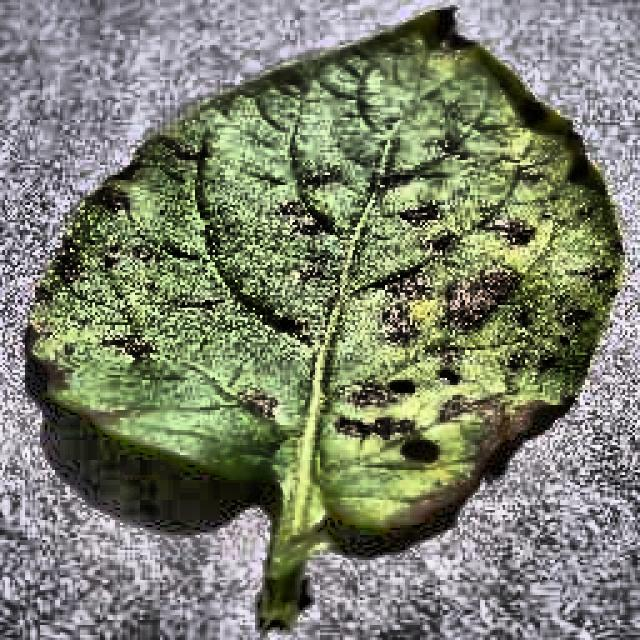Potato_leaf_early_blight: (30, 10, 620, 625)
